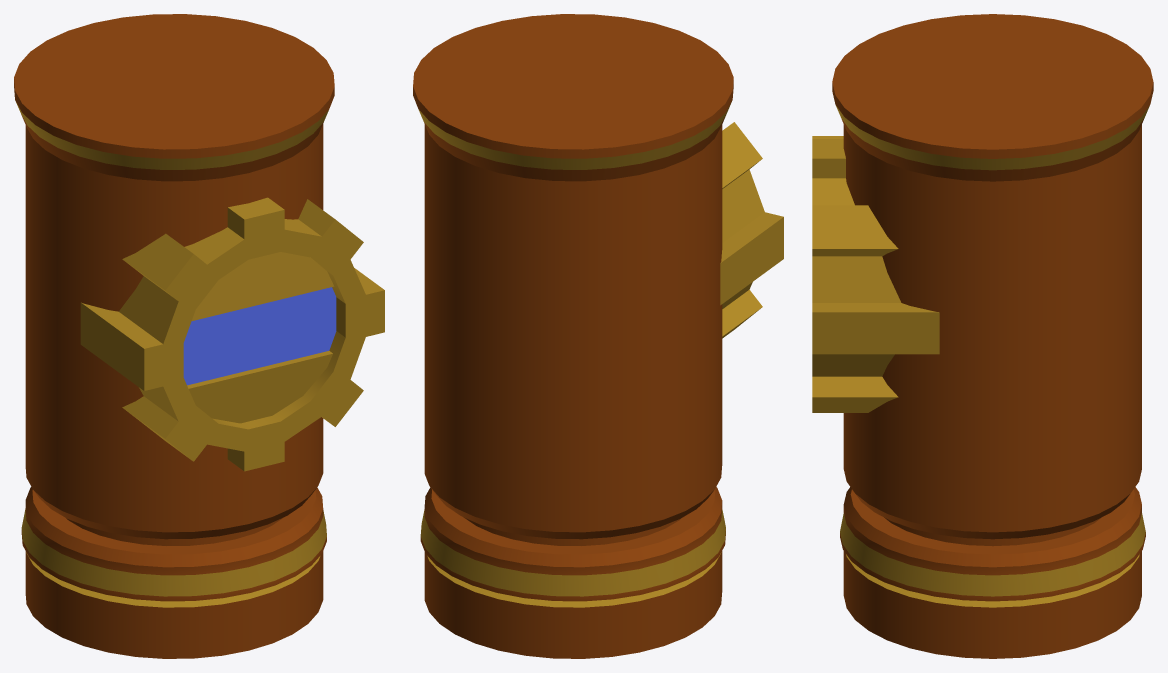
The model's file is Jumper.fbx.
3 renders of one model, left to right at view 1: azimuth 30°, elevation 25°; view 2: azimuth 150°, elevation 25°; view 3: azimuth 270°, elevation 25°, orthographic.
Visible parts, largest first — view 1: Body, Spring; view 2: Body, Spring; view 3: Body, Spring.
Part boxes in pixels (x1,y1,x2,y2): Body: (14, 14, 384, 601); Spring: (25, 551, 323, 658); Body: (413, 14, 783, 601); Spring: (424, 551, 722, 658); Body: (812, 14, 1153, 601); Spring: (843, 551, 1141, 658).
Size of what is drawn, in the model's own units: 215 by 380 by 229.
